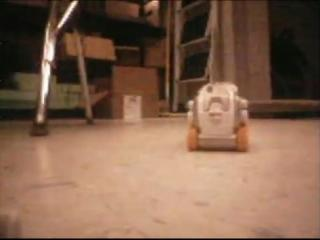cozmo: (184, 81, 250, 152)
